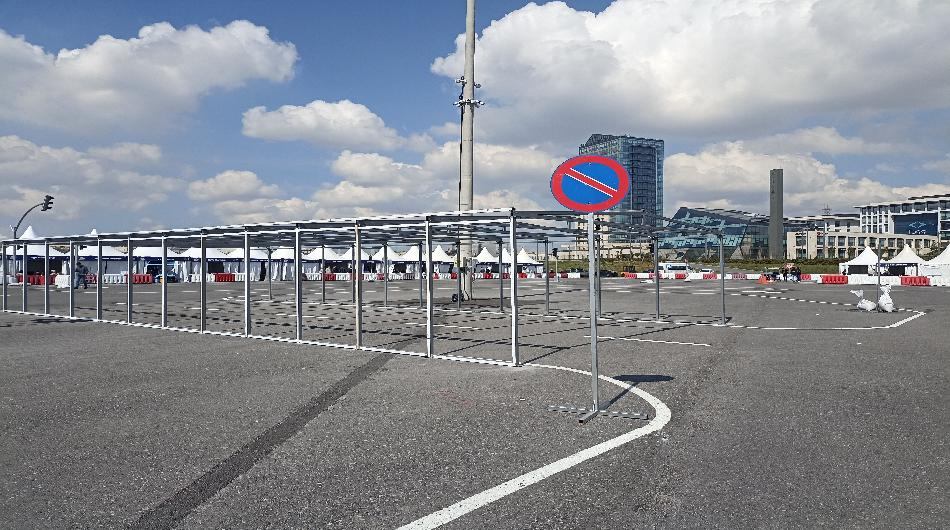park_yapilmaz_1: (549, 153, 627, 212)
